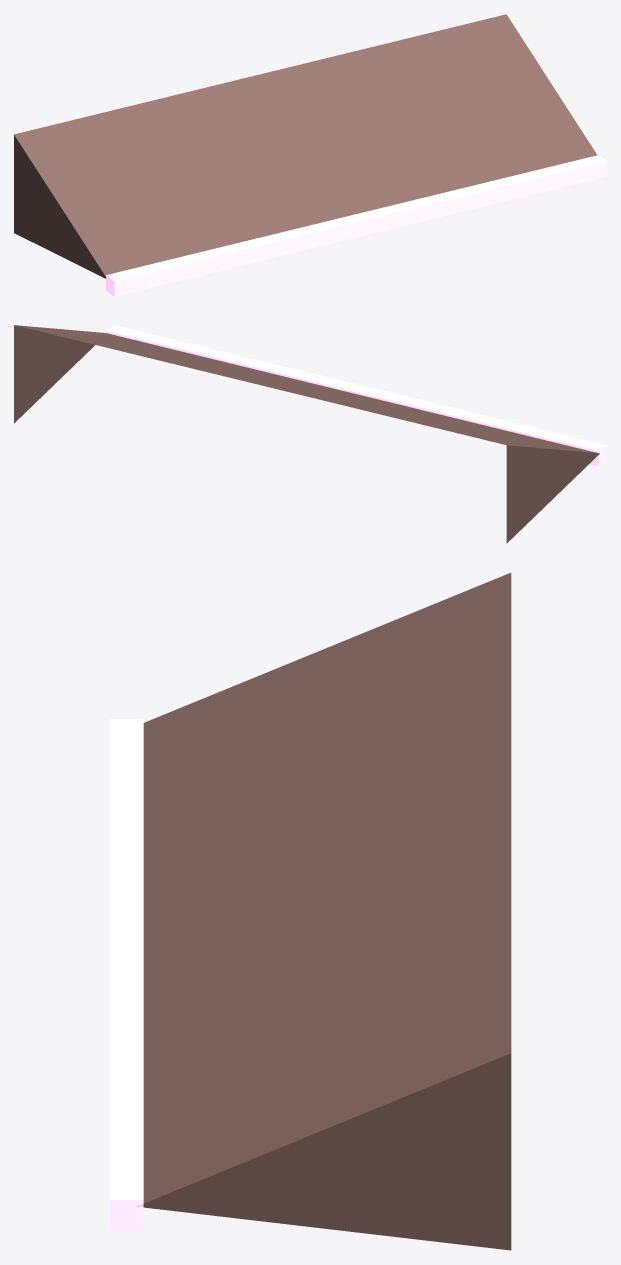
File: awning.glb
3 views of the same model, one above another, from view 1: azimuth 30°, elevation 25°; view 2: azimuth 150°, elevation 25°; view 3: azimuth 270°, elevation 25° (orthographic). The views are drawn at different scales.
Parts seen in each view (by area): view 1: awning; view 2: awning; view 3: awning.
Boxes of the visible parts, box(x1,y1,x2,y2) form: awning: box(14, 14, 606, 296); awning: box(14, 325, 606, 543); awning: box(109, 572, 511, 1250).
Bounding box in the file's own units: 2.35 × 0.45 × 0.83.
